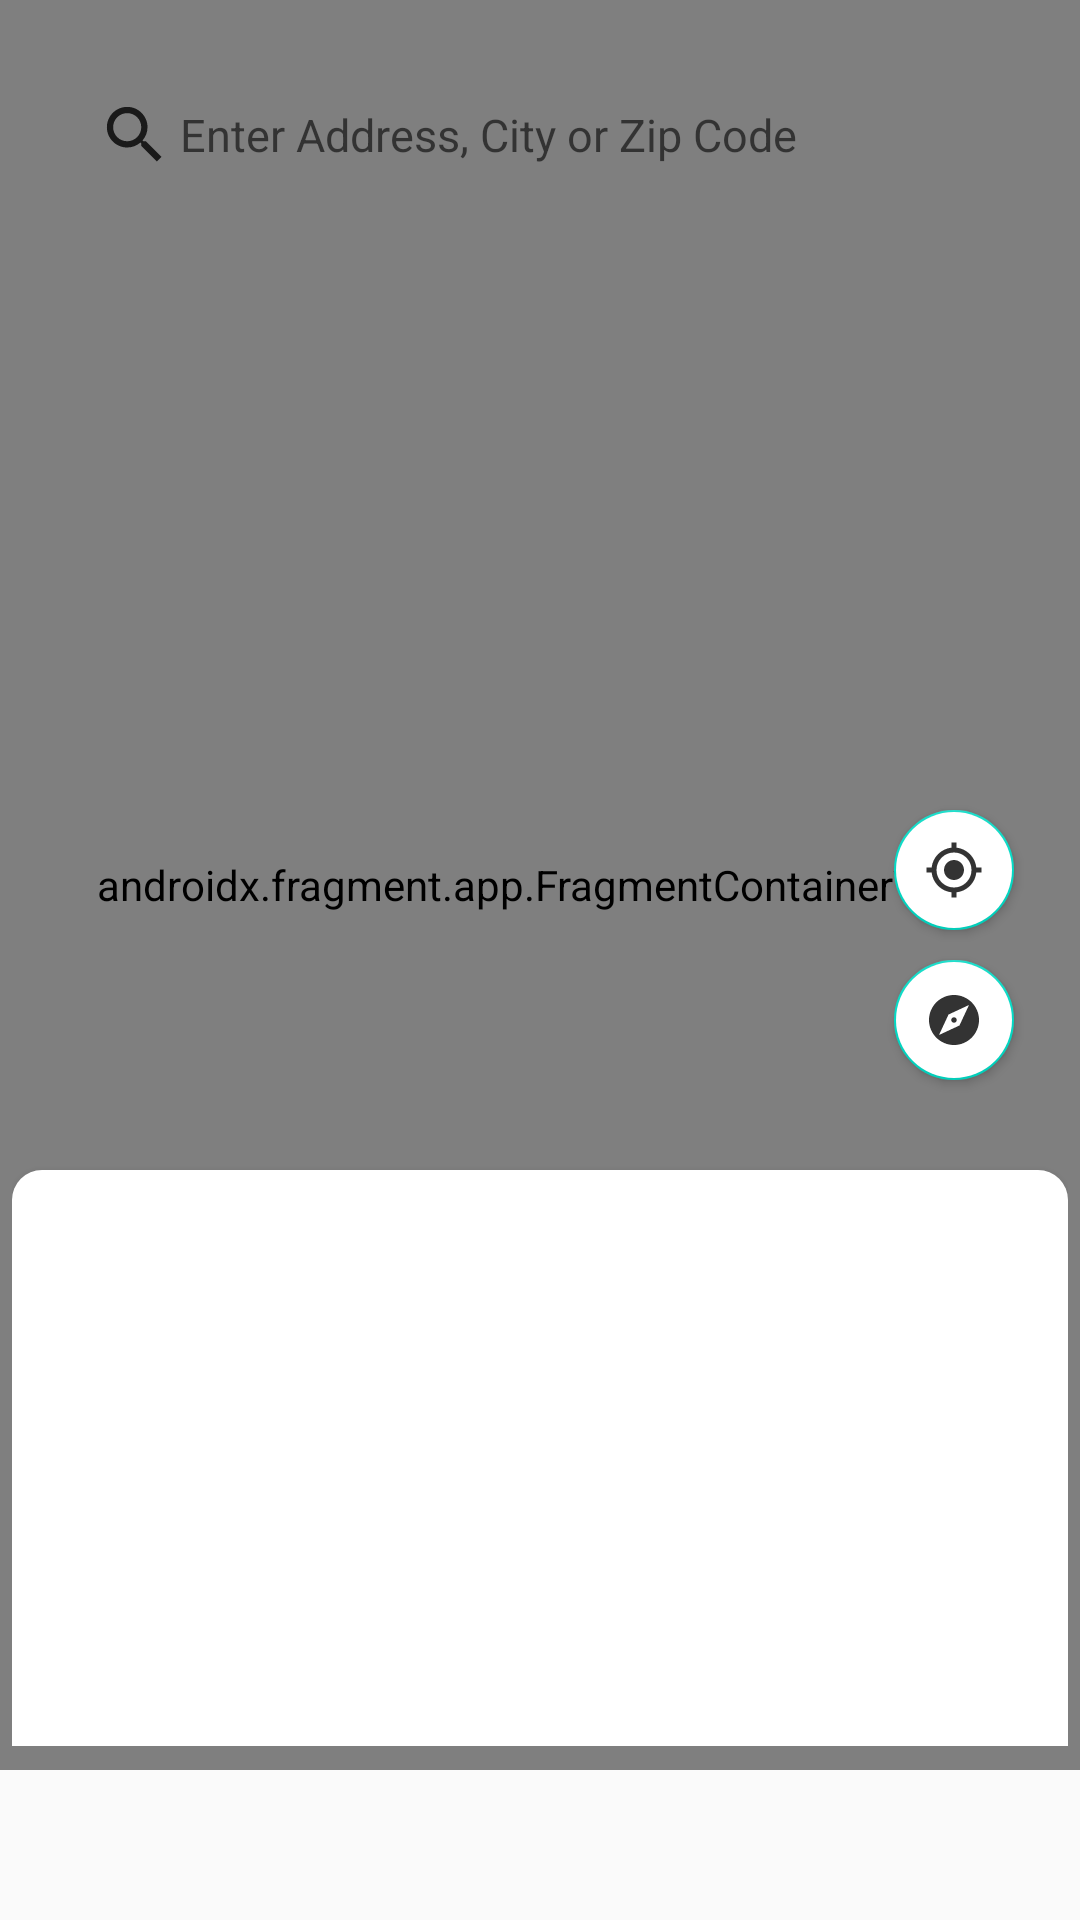

Screen size 1080×1920. Icon name, then its box in pixels as [x1,y1,x2,y2]:
search: [107,107,161,161]
